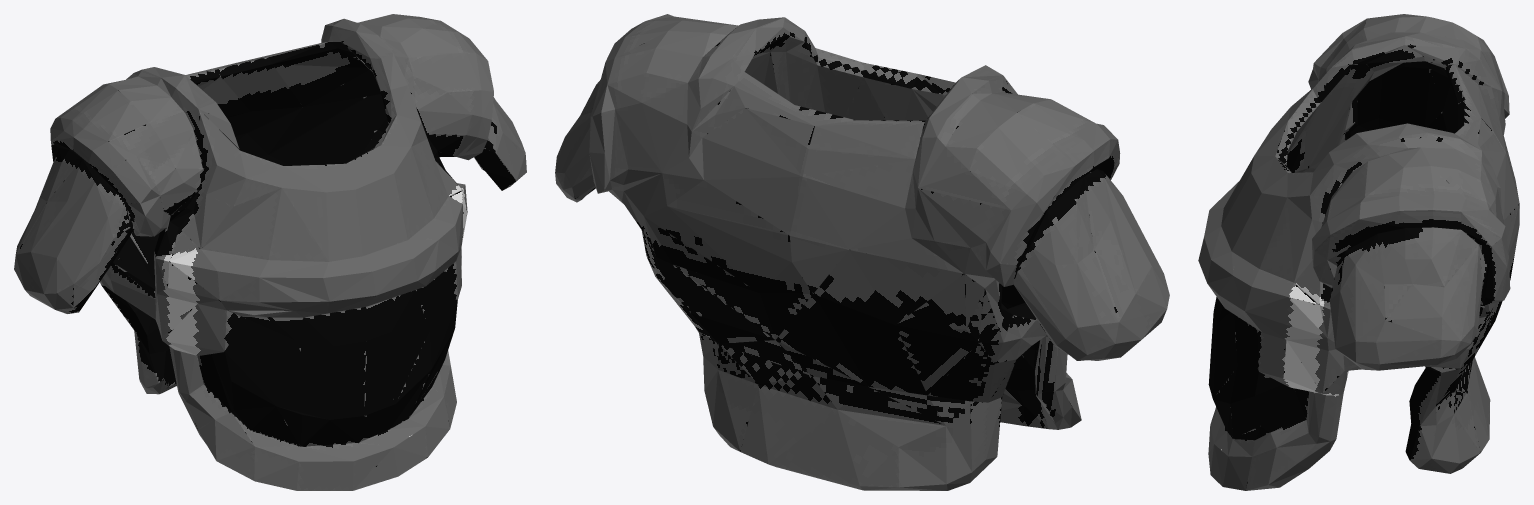
The picture shows the model from 3 angles, left to right: view 1: azimuth 30°, elevation 25°; view 2: azimuth 150°, elevation 25°; view 3: azimuth 270°, elevation 25°; orthographic projection. The views are drawn at different scales.
Parts seen in each view (by area): view 1: OBJ022; view 2: OBJ022; view 3: OBJ022.
Part boxes in pixels (left/top/right/bottom): OBJ022: left=14, top=14, right=526, bottom=490; OBJ022: left=555, top=14, right=1169, bottom=490; OBJ022: left=1198, top=14, right=1519, bottom=490.
Size of the model in its own units: 0.2971 by 0.2154 by 0.1644.
1 material, 1 textured.
